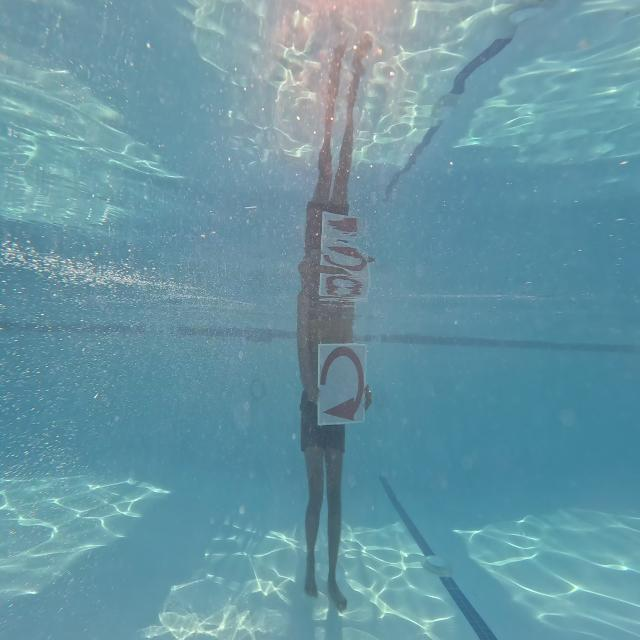red_side: (317, 342, 366, 428)
